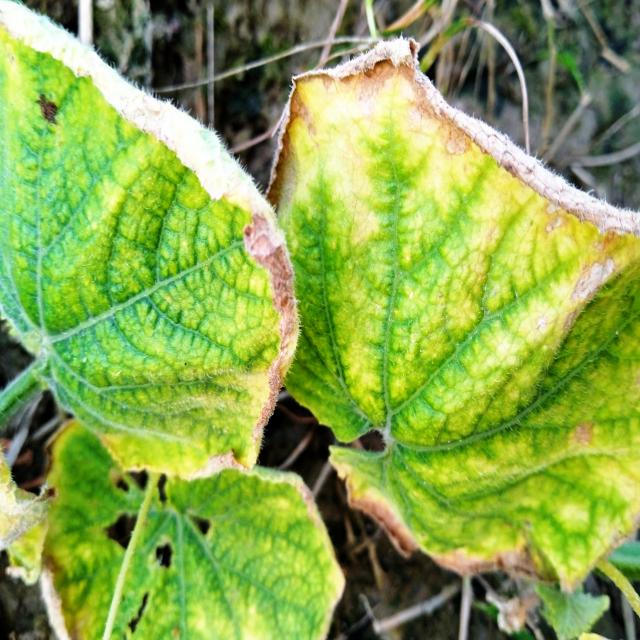Gummy-Stem-Blight: (0, 0, 300, 468), (264, 32, 640, 252)
